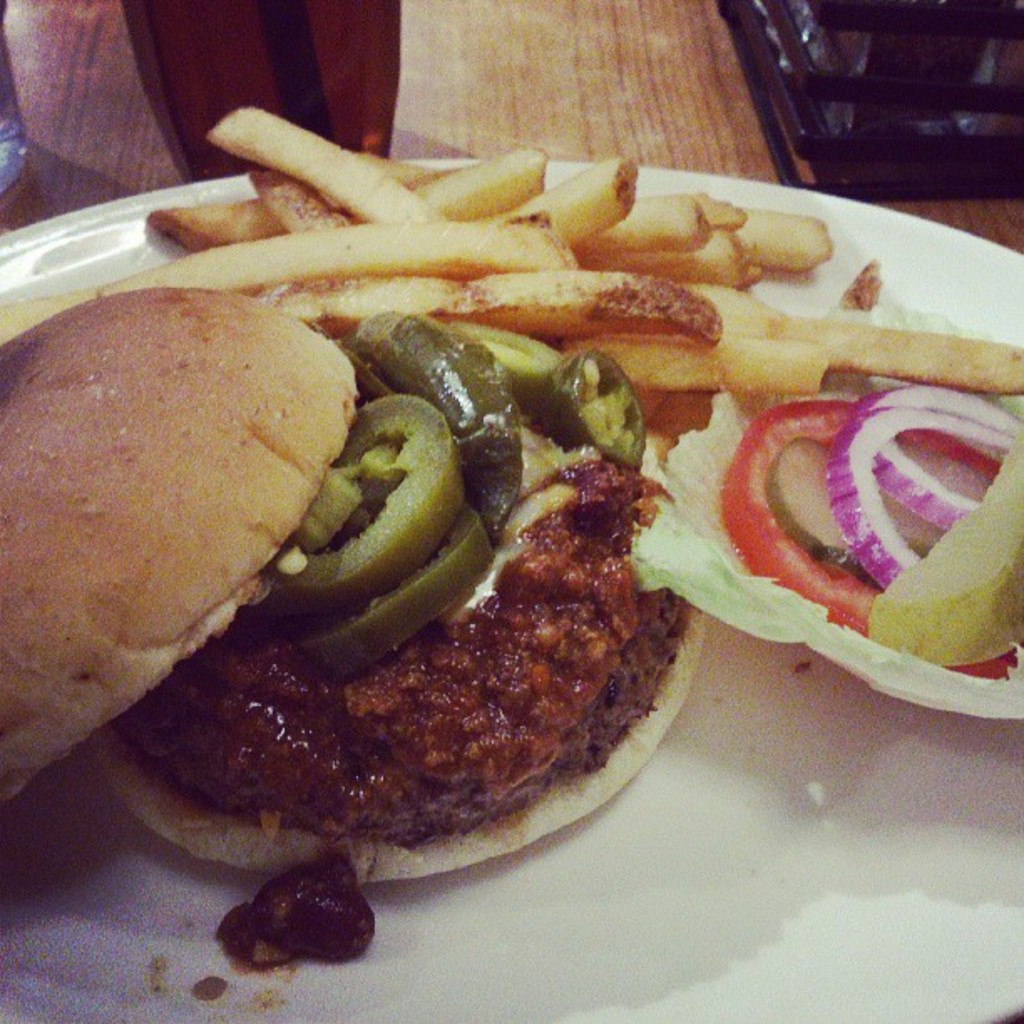French fries: (85, 110, 844, 389)
